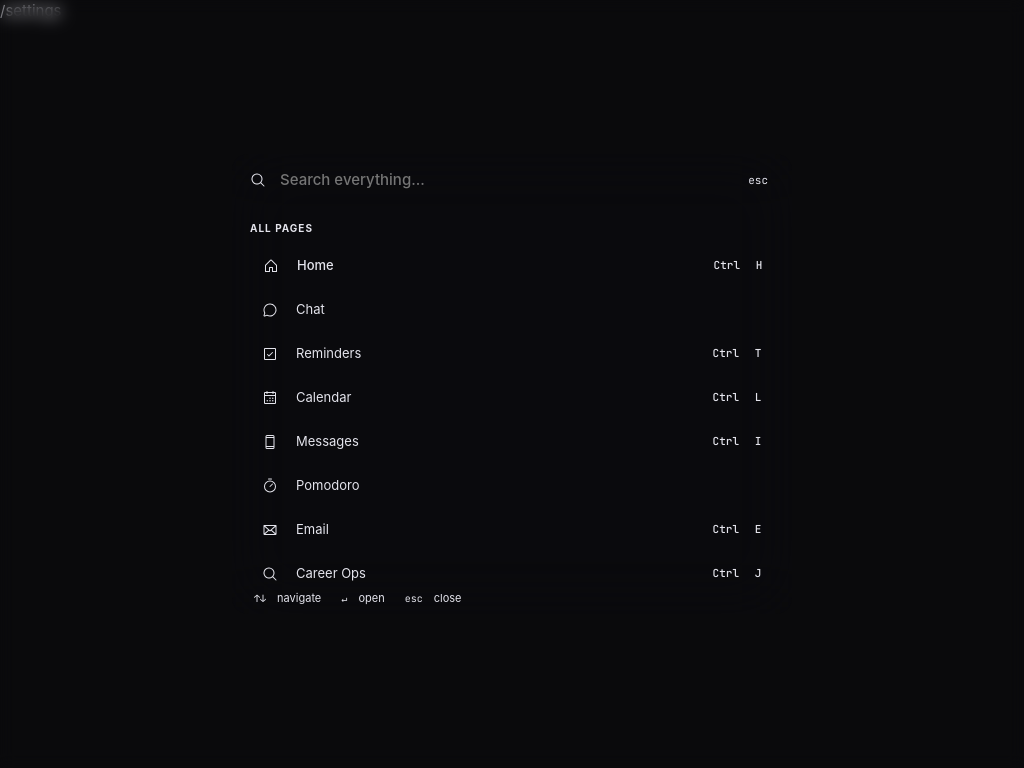
Test case: CommandPalette › prioritizes pinned recent chats and makes them searchable
Type "pinned" into the dropdown named "Command palette search" at point(504, 180), box [278,168,730,192]
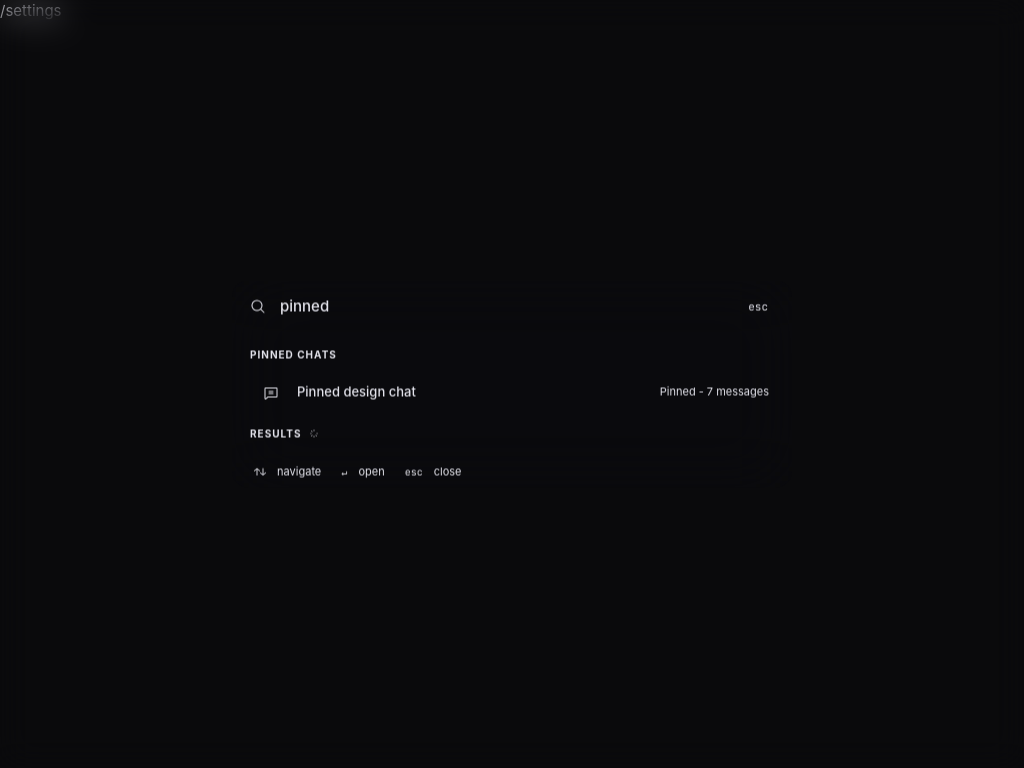
Expected: the option "Pinned design chat Pinned - 7 messages" is shown, [263,383,769,400]
